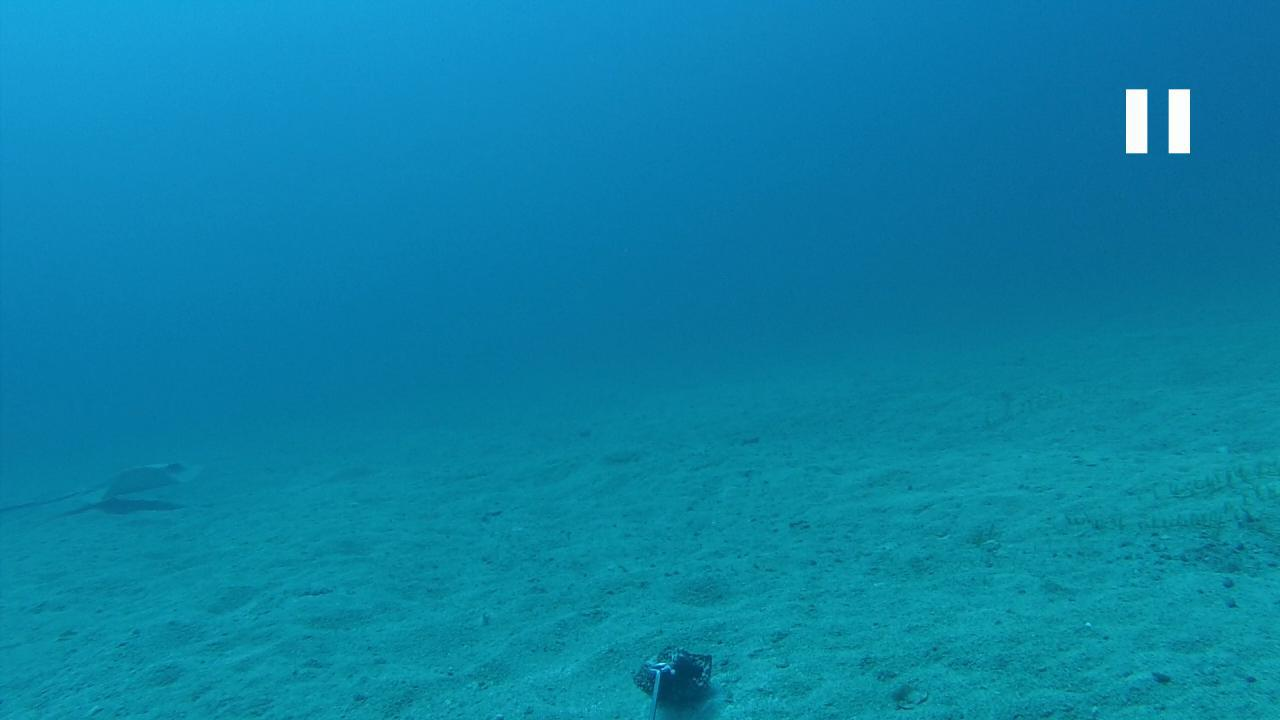dasyatis: (0, 456, 211, 516)
